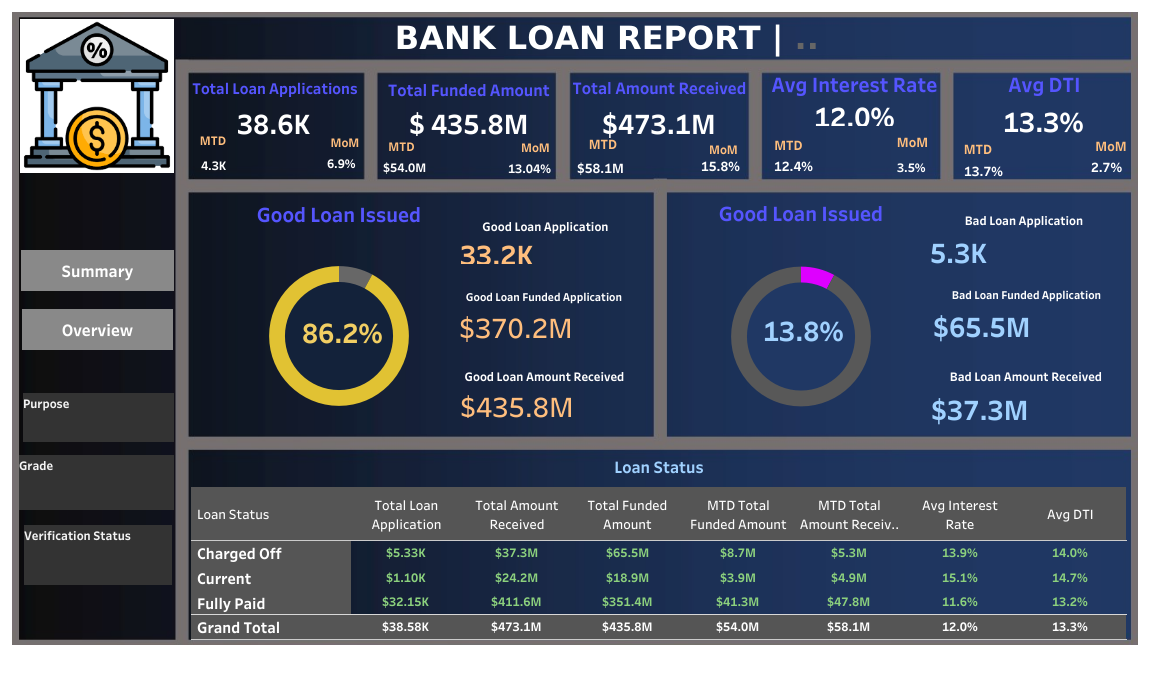

The page's visual inventory and layout, read from the dashboard file:
{"tool":"tableau","page":{"name":"Summary","canvas":[1150,700],"ordinal":1},"visuals":[{"type":"image","param":"Image/Tableau Background 1.jpg","box":[8,8,1134,684]},{"type":"text","box":[388,10,438,56]},{"type":"image","param":"Image/images.png","box":[20,18,154,156]},{"type":"worksheet","title":"Avg Interest Rate","mark":"Automatic","box":[739,64,231,62]},{"type":"worksheet","title":"Avg DTI","mark":"Automatic","box":[940,64,209,71]},{"type":"worksheet","title":"Total Amount Received","mark":"Automatic","box":[544,70,231,68]},{"type":"worksheet","title":"Total Loan Applications ","mark":"Automatic","box":[185,71,180,68]},{"type":"worksheet","title":"Total Funded Amount","mark":"Automatic","box":[378,72,182,65]},{"type":"text","box":[179,125,68,30]},{"type":"text","box":[867,126,91,30]},{"type":"text","box":[295,127,100,30]},{"type":"text","box":[562,128,82,30]},{"type":"text","box":[762,129,53,30]},{"type":"text","box":[1084,130,54,30]},{"type":"text","box":[368,131,67,30]},{"type":"text","box":[497,132,77,30]},{"type":"text","box":[943,133,70,30]},{"type":"text","box":[690,134,67,30]},{"type":"worksheet","title":"MoM Loan Applications","mark":"Automatic","box":[317,143,49,41]},{"type":"worksheet","title":"MTD Total Loan Applications","mark":"Automatic","box":[185,149,60,32]},{"type":"worksheet","title":"MoM Total Amount Received","mark":"Automatic","box":[692,149,58,33]},{"type":"worksheet","title":"MoM Avg DTI","mark":"Automatic","box":[1073,149,69,35]},{"type":"worksheet","title":"MTD Avg interest Rate","mark":"Automatic","box":[763,151,63,29]},{"type":"worksheet","title":"MTD Total Funded Amount","mark":"Automatic","box":[378,153,55,29]},{"type":"worksheet","title":"MoM Total Funded Amount ","mark":"Automatic","box":[504,154,52,28]},{"type":"worksheet","title":"MoM Avg interest Rate","mark":"Automatic","box":[886,154,52,26]},{"type":"worksheet","title":"MTD Total Amount Received","mark":"Automatic","box":[570,156,63,24]},{"type":"worksheet","title":"MTD Avg DTI","mark":"Automatic","box":[946,157,76,27]},{"type":"worksheet","title":"Bad Loan Issued","mark":"Pie","rows":["Calculation_1192328010410180615","Calculation_1192328010410225673"],"box":[667,193,268,244]},{"type":"worksheet","title":"Good Loan Issued","mark":"Pie","rows":["Calculation_1192328010410180615","Calculation_1192328010410225673"],"box":[189,194,300,241]},{"type":"worksheet","title":"Bad Loan Application ","mark":"Automatic","box":[922,201,204,70]},{"type":"worksheet","title":"Good Loan Application","mark":"Automatic","box":[452,207,187,61]},{"type":"dashboard-object","box":[21,250,153,41]},{"type":"worksheet","title":"Bad Loan Funded Application ","mark":"Automatic","box":[925,277,203,69]},{"type":"worksheet","title":"Good Loan Funded Application","mark":"Automatic","box":[451,279,186,67]},{"type":"worksheet","title":"Bad Loan Application %","mark":"Automatic","box":[748,295,111,71]},{"type":"worksheet","title":"Good Loan Application %","mark":"Automatic","box":[291,302,105,61]},{"type":"dashboard-object","box":[22,309,151,41]},{"type":"worksheet","title":"Good Loan Amount Received ","mark":"Automatic","box":[452,357,185,65]},{"type":"worksheet","title":"Bad Loan Amount Received ","mark":"Automatic","box":[923,357,206,72]},{"type":"filter","title":"Good Loan Issued","param":"[federated.16ppvev1oucmnk14pvu2c01demfe].[none:purpose:nk]","box":[23,393,151,49]},{"type":"worksheet","title":"Loan Status","mark":"Automatic","rows":["loan_status"],"box":[191,449,936,191]},{"type":"filter","title":"Good Loan Issued","param":"[federated.16ppvev1oucmnk14pvu2c01demfe].[none:grade:nk]","box":[19,455,155,55]},{"type":"filter","title":"Good Loan Issued","param":"[federated.16ppvev1oucmnk14pvu2c01demfe].[none:verification_status:nk]","box":[24,525,148,60]}]}

Visuals, with their boxes in screenshot pixels (x1, y1, x2, y2), scaled from the page's 1150x700 canvas onto the 1149x699 screenshot:
image: 8:8:1141:691
text: 388:10:825:66
image: 20:18:174:174
"Avg Interest Rate" worksheet: 738:64:969:126
"Avg DTI" worksheet: 939:64:1148:135
"Total Amount Received" worksheet: 544:70:774:138
"Total Loan Applications " worksheet: 185:71:365:139
"Total Funded Amount" worksheet: 378:72:560:137
text: 179:125:247:155
text: 866:126:957:156
text: 295:127:395:157
text: 562:128:643:158
text: 761:129:814:159
text: 1083:130:1137:160
text: 368:131:435:161
text: 497:132:574:162
text: 942:133:1012:163
text: 689:134:756:164
"MoM Loan Applications" worksheet: 317:143:366:184
"MTD Total Loan Applications" worksheet: 185:149:245:181
"MoM Total Amount Received" worksheet: 691:149:749:182
"MoM Avg DTI" worksheet: 1072:149:1141:184
"MTD Avg interest Rate" worksheet: 762:151:825:180
"MTD Total Funded Amount" worksheet: 378:153:433:182
"MoM Total Funded Amount " worksheet: 504:154:556:182
"MoM Avg interest Rate" worksheet: 885:154:937:180
"MTD Total Amount Received" worksheet: 570:156:632:180
"MTD Avg DTI" worksheet: 945:157:1021:184
"Bad Loan Issued" worksheet (Pie marks): 666:193:934:436
"Good Loan Issued" worksheet (Pie marks): 189:194:489:434
"Bad Loan Application " worksheet: 921:201:1125:271
"Good Loan Application" worksheet: 452:207:638:268
dashboard-object: 21:250:174:291
"Bad Loan Funded Application " worksheet: 924:277:1127:346
"Good Loan Funded Application" worksheet: 451:279:636:346
"Bad Loan Application %" worksheet: 747:295:858:365
"Good Loan Application %" worksheet: 291:302:396:362
dashboard-object: 22:309:173:350
"Good Loan Amount Received " worksheet: 452:356:636:421
"Bad Loan Amount Received " worksheet: 922:356:1128:428
"Good Loan Issued" filter: 23:392:174:441
"Loan Status" worksheet: 191:448:1126:639
"Good Loan Issued" filter: 19:454:174:509
"Good Loan Issued" filter: 24:524:172:584
